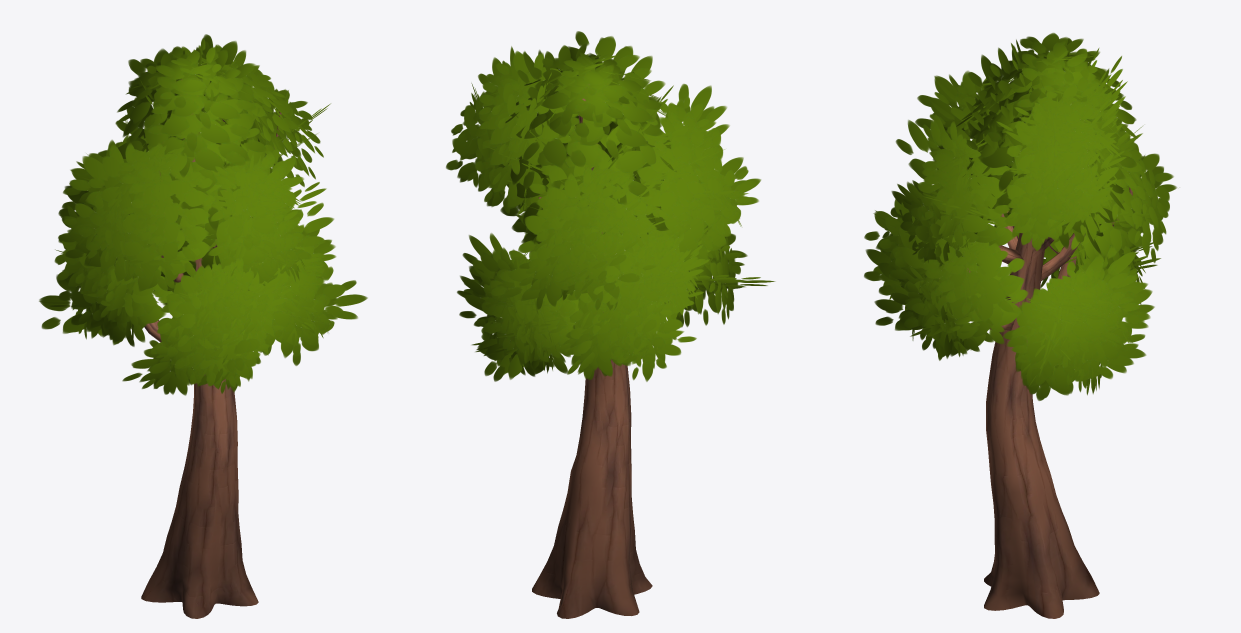
Rendered from tree-round.glb.
3 views of the same model, side by side, from view 1: azimuth 30°, elevation 25°; view 2: azimuth 150°, elevation 25°; view 3: azimuth 270°, elevation 25° (orthographic). The views are drawn at different scales.
Parts seen in each view (by area): view 1: CommonTree_1; view 2: CommonTree_1; view 3: CommonTree_1.
Boxes of the visible parts, x1,y1,x2,y2 form: CommonTree_1: [39, 34, 367, 618]; CommonTree_1: [446, 31, 775, 618]; CommonTree_1: [864, 33, 1176, 618].
Size of the model in its own units: 4.31 by 7.26 by 4.58.
2 materials, 2 textured.
